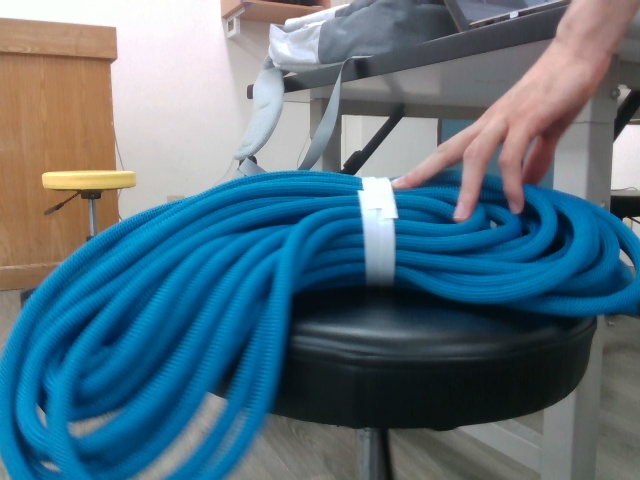rope: (1, 166, 640, 480)
